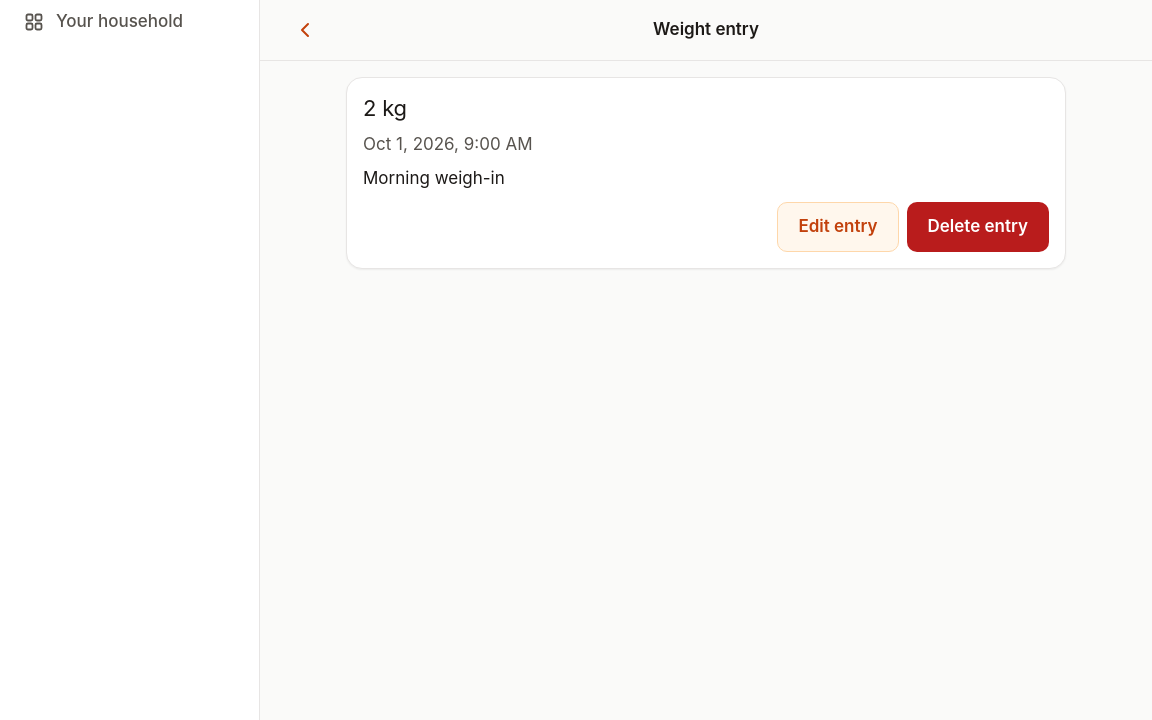
Test: the weight entry detail route (WT-8, D1.2) › saves one identified edit with the new value in canonical grams
The width and height of the screenshot is (1152, 720).
Click the button "Edit entry" at x=838, y=227, box [777,202,898,252]
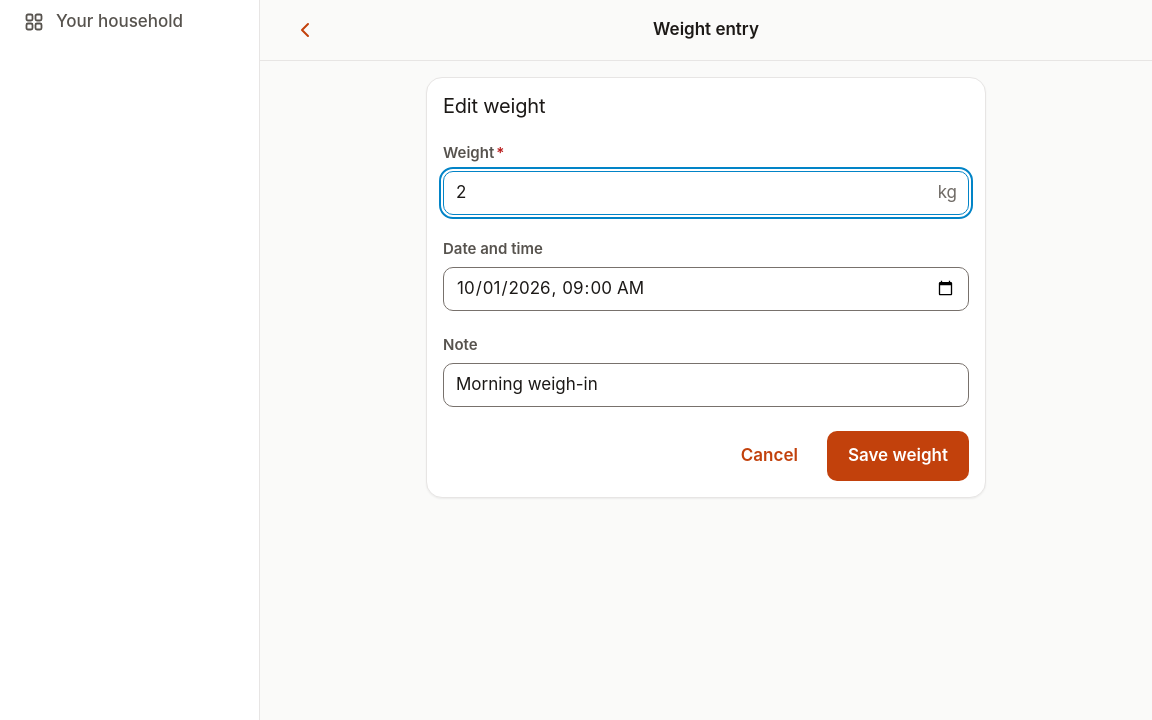
Replace the text in the field labelled "Weight*" with "1.8" at x=706, y=193, box [443,171,969,215]
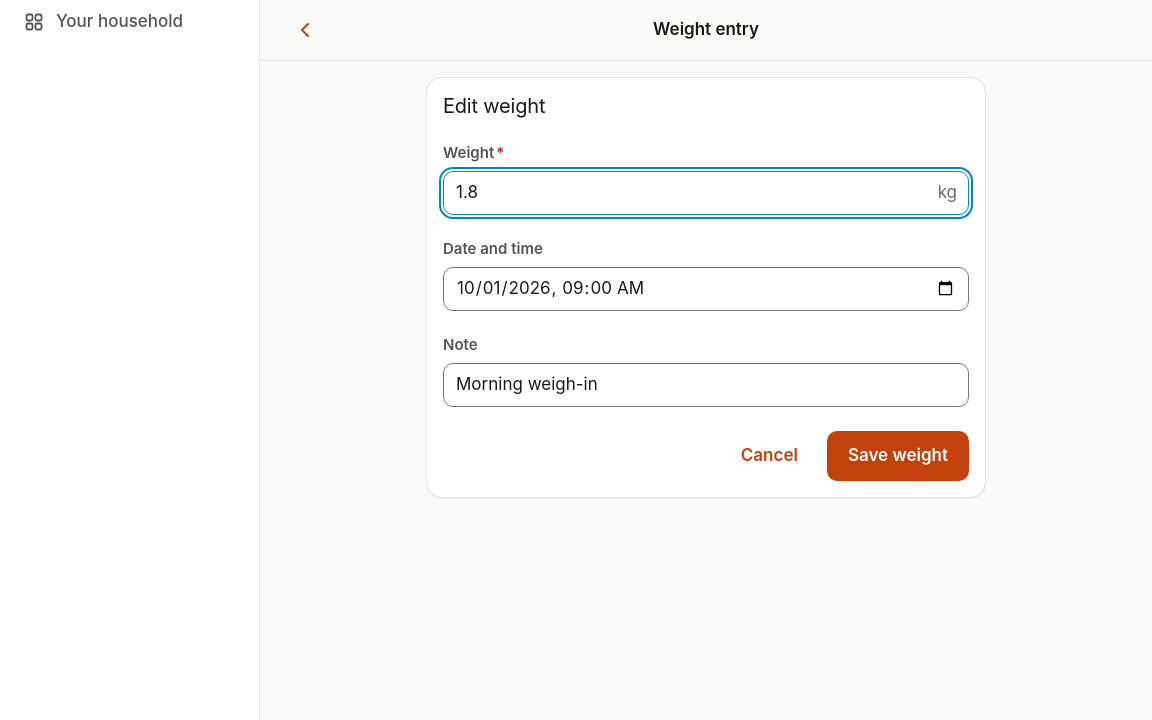
Click the button "Save weight" at x=898, y=456, box [827,431,969,481]
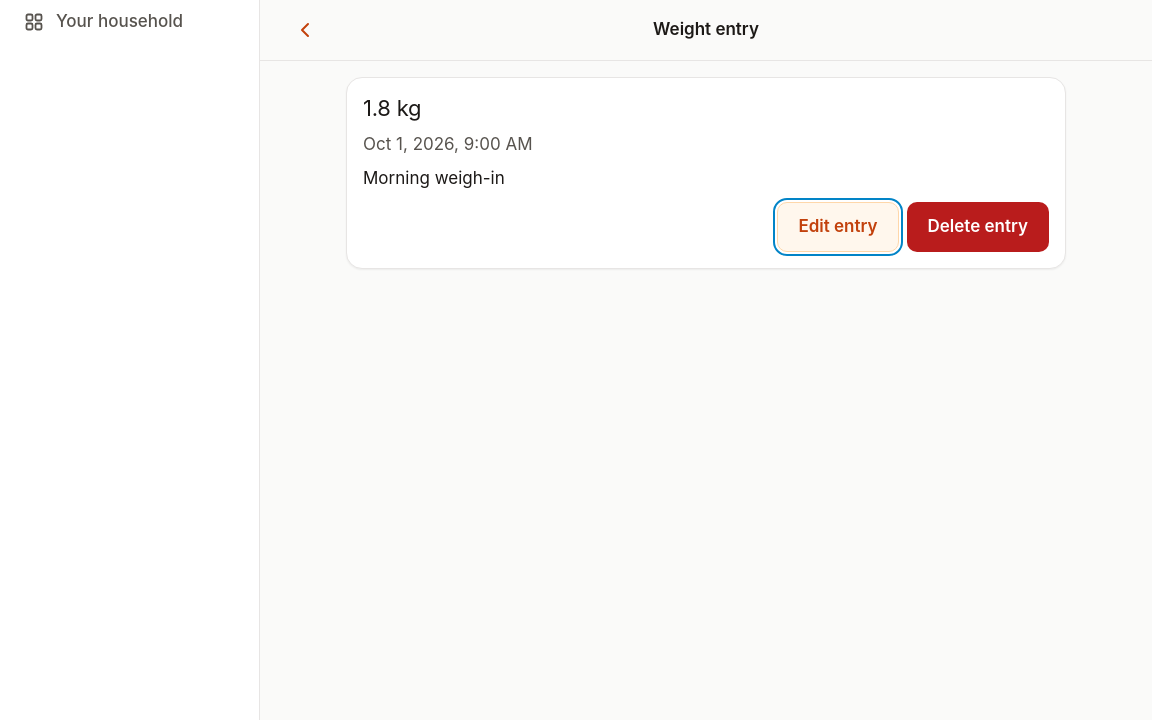
expect the text "1.8 kg" is shown: met, box [363,95,421,121]
